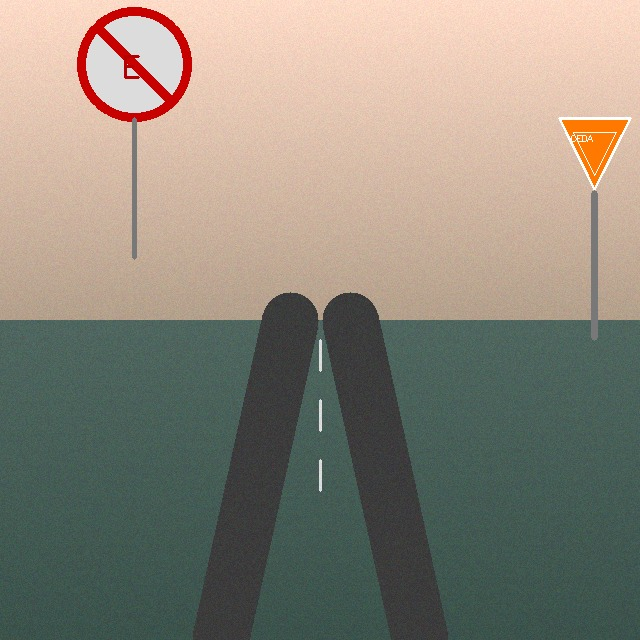ceda_el_paso: (555, 114, 634, 193)
no_estacionar: (79, 9, 189, 119)
